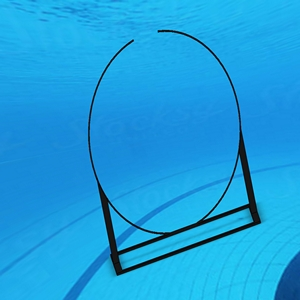circle: (85, 27, 264, 279)
